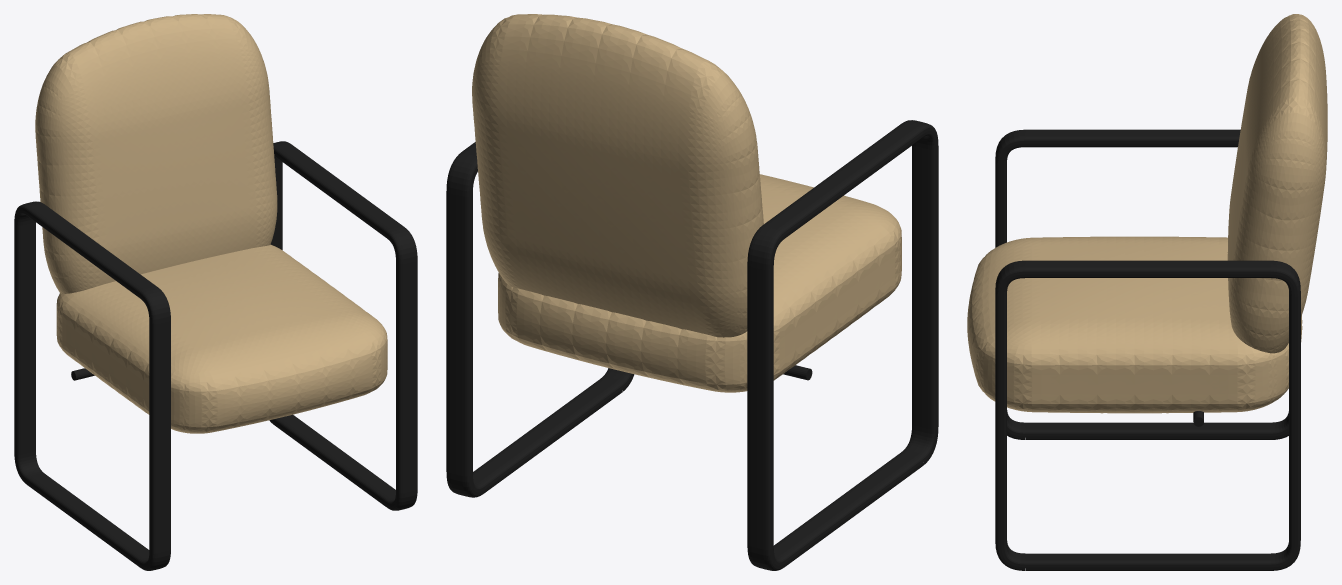
The model's file is forum.glb.
3 views of the same model, side by side, from view 1: azimuth 30°, elevation 25°; view 2: azimuth 150°, elevation 25°; view 3: azimuth 270°, elevation 25° (orthographic). The views are drawn at different scales.
Parts seen in each view (by area): view 1: back, seat, side-1, side1; view 2: back, seat, side-1, side1; view 3: seat, back, side1, side-1.
Part boxes in pixels (box(x1,y1,x2,y2)): back: box(35, 14, 277, 293); seat: box(56, 244, 387, 433); side-1: box(14, 201, 170, 570); side1: box(269, 141, 417, 510); back: box(472, 14, 763, 337); seat: box(498, 174, 901, 392); side-1: box(747, 120, 938, 570); side1: box(446, 142, 634, 497); seat: box(967, 236, 1302, 413); back: box(1227, 14, 1327, 353); side1: box(995, 260, 1300, 570); side-1: box(995, 129, 1288, 439).
Bounding box in the file's own units: 0.625 × 0.9513 × 0.675.
